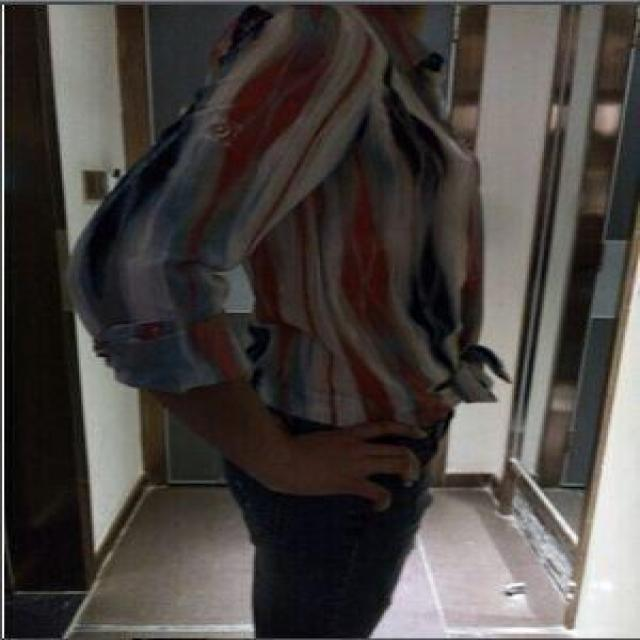long sleeve top: (66, 8, 476, 425)
trousers: (237, 401, 442, 638)
